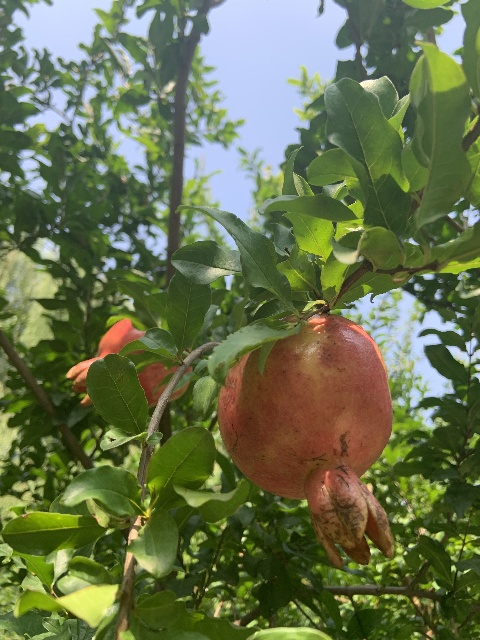ripe: (216, 313, 396, 566), (65, 318, 190, 408)
